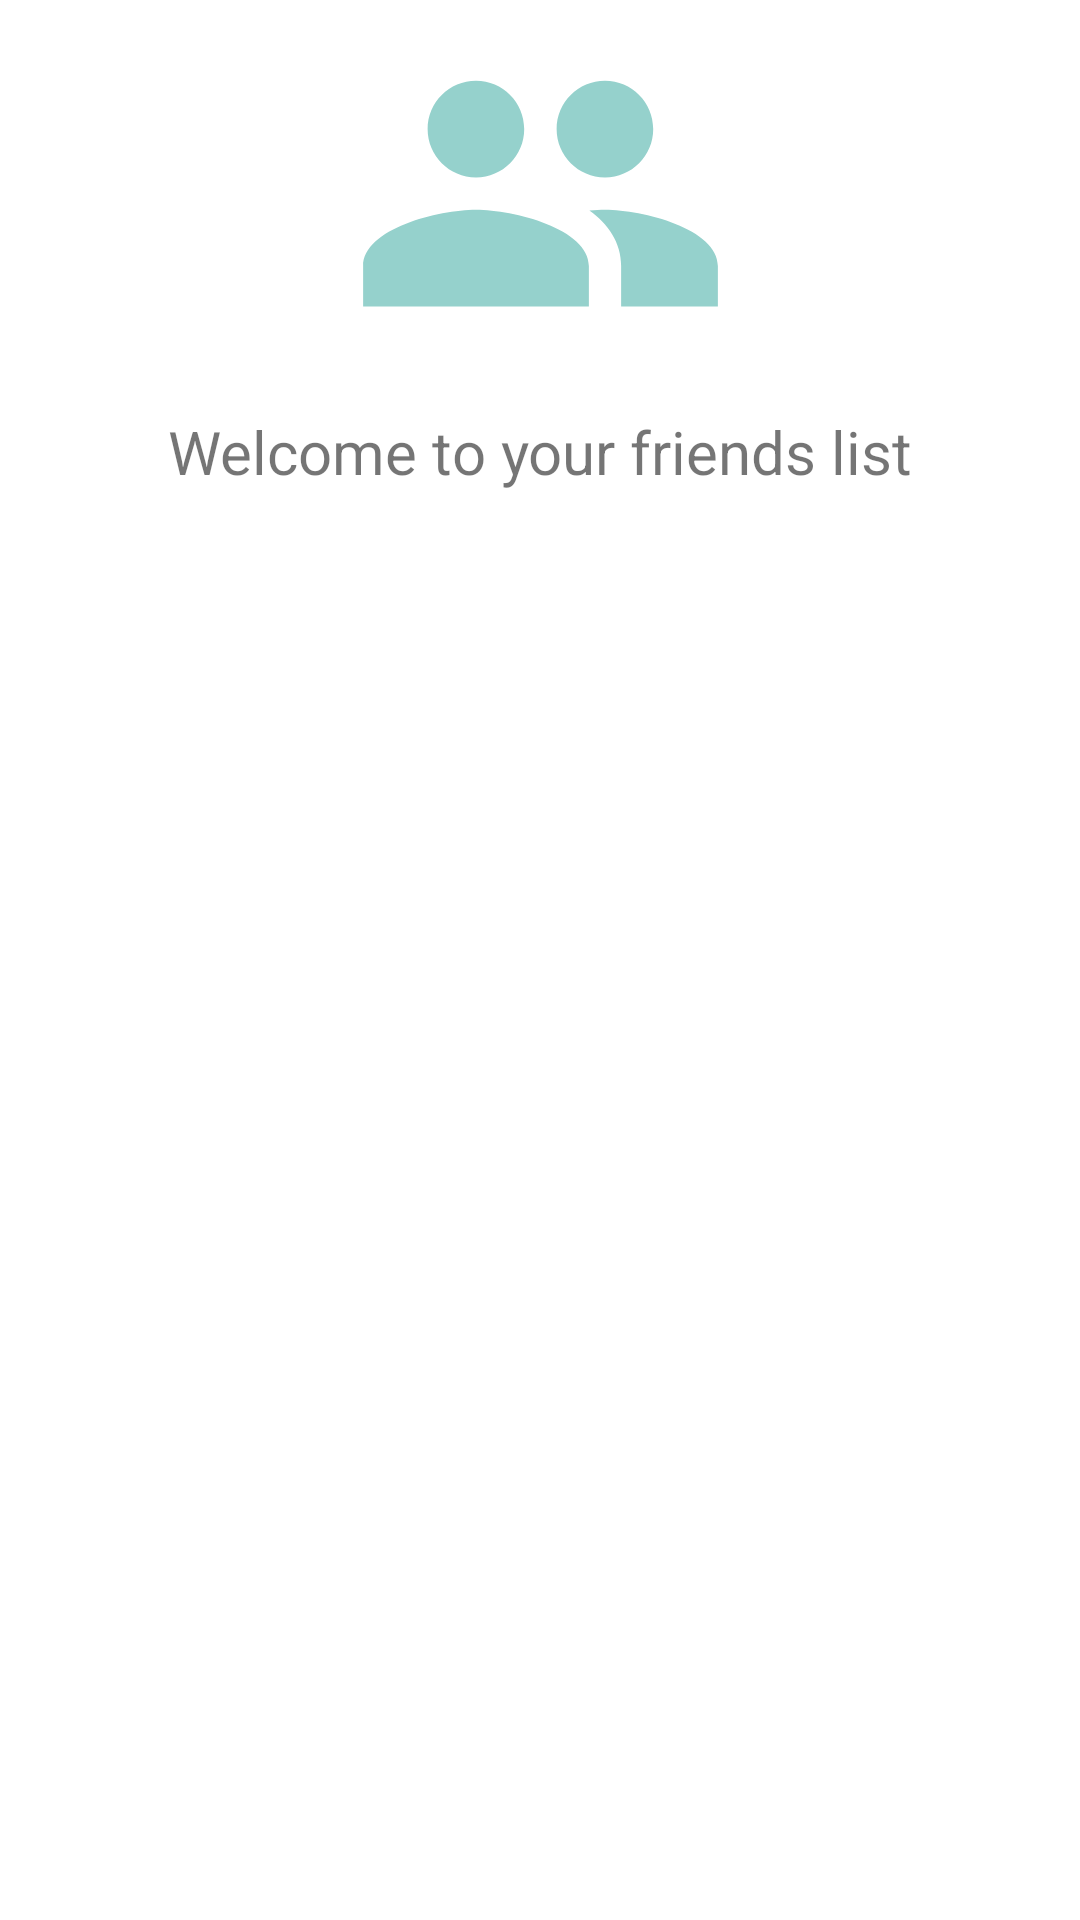

Point at icon controls on the screen. Image size 1080 x 1920, points as (x=x, y=y).
people: (x=540, y=194)
